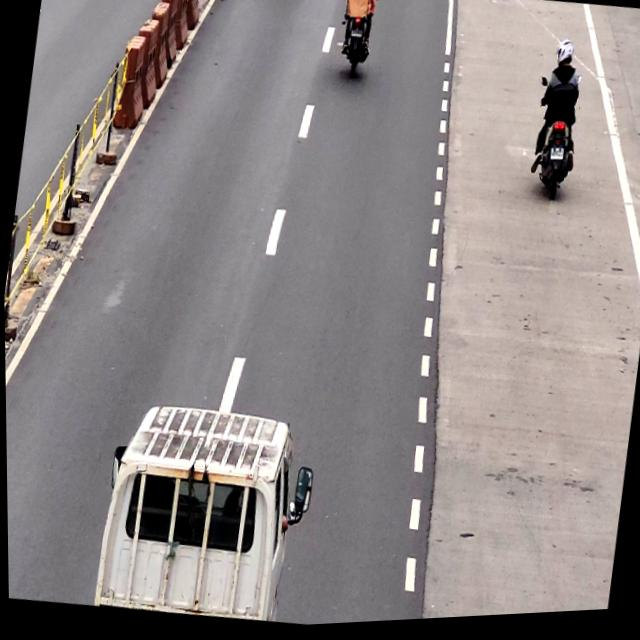Car: (91, 397, 308, 633)
License-Plate: (549, 152, 566, 169)
Motorcycle: (525, 42, 590, 212), (335, 0, 383, 86)
